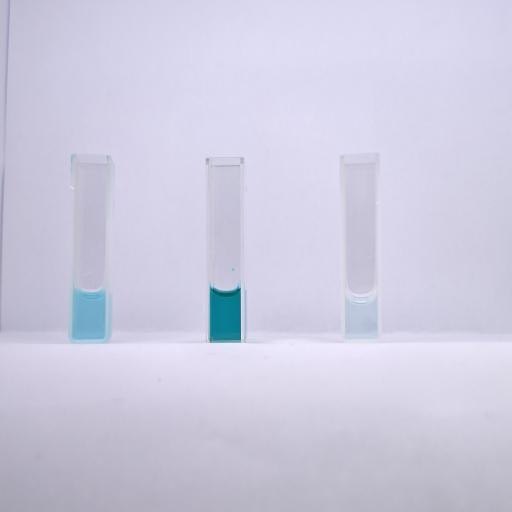cuvette: (67, 151, 114, 345), (338, 151, 382, 344), (204, 155, 245, 343)
liquid: (210, 288, 242, 340), (73, 288, 104, 339), (345, 292, 378, 339)
